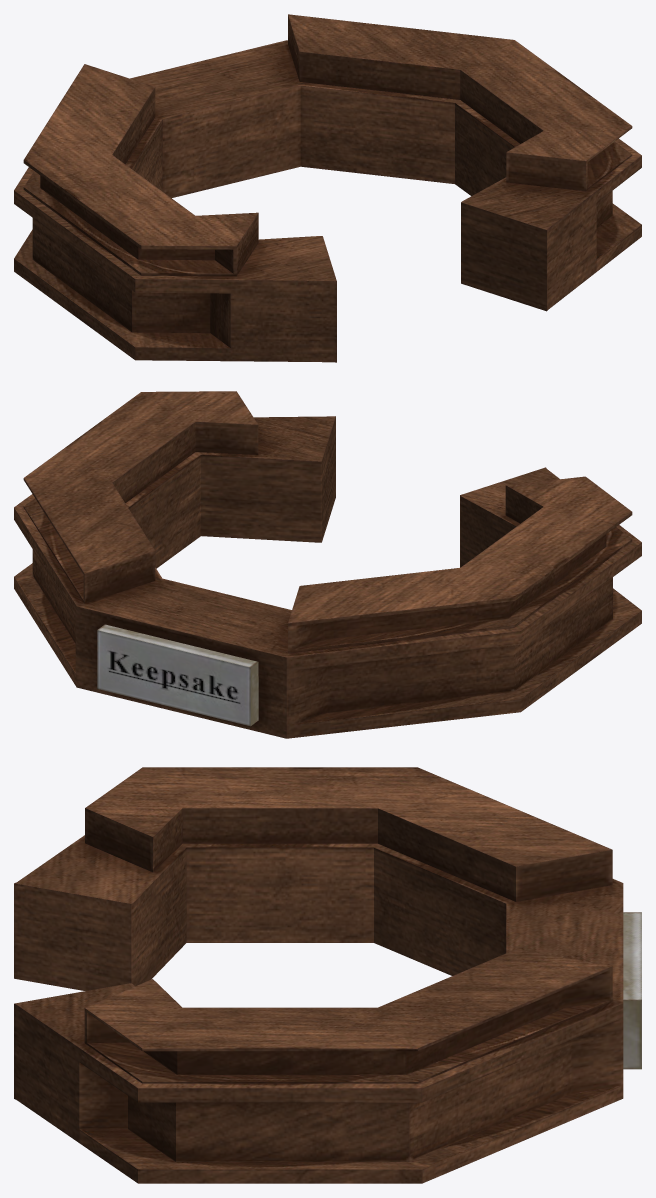
Rendered from Desk_Keepsake.glb.
The picture shows the model from 3 angles, top to bottom: view 1: azimuth 30°, elevation 25°; view 2: azimuth 150°, elevation 25°; view 3: azimuth 270°, elevation 25°; orthographic projection. The views are drawn at different scales.
Parts seen in each view (by area): view 1: Desk_Alt_Low; view 2: Desk_Alt_Low; view 3: Desk_Alt_Low.
Part boxes in pixels (x1,y1,x2,y2): Desk_Alt_Low: [14, 14, 641, 362]; Desk_Alt_Low: [14, 391, 641, 738]; Desk_Alt_Low: [14, 767, 641, 1183].
Size of the model in its own units: 22.71 by 4.76 by 20.77.
Materials: 1 (1 with a texture image).
